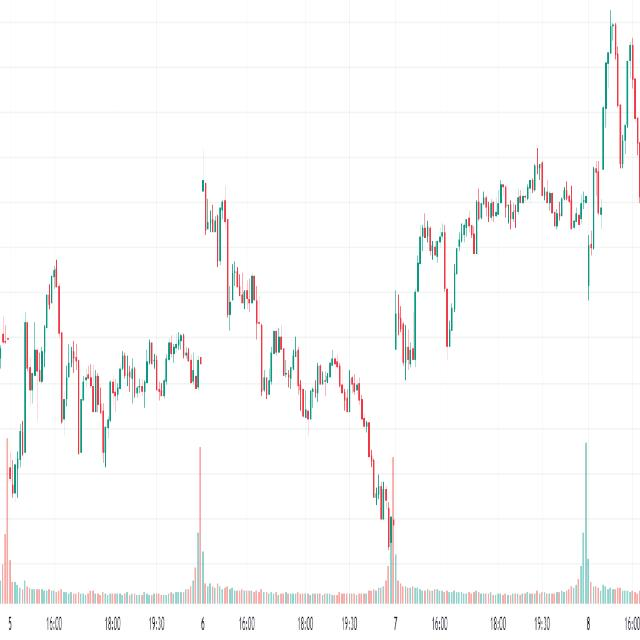Ascending-Triangle: (55, 328, 202, 518)
Channel-down: (183, 143, 326, 491)
